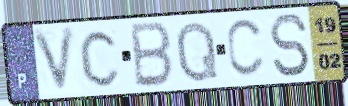B: (130, 20, 176, 90)
C: (78, 27, 123, 89), (225, 16, 267, 80)
Q: (174, 19, 221, 85)
S: (267, 12, 312, 80)
V: (29, 23, 79, 97)
